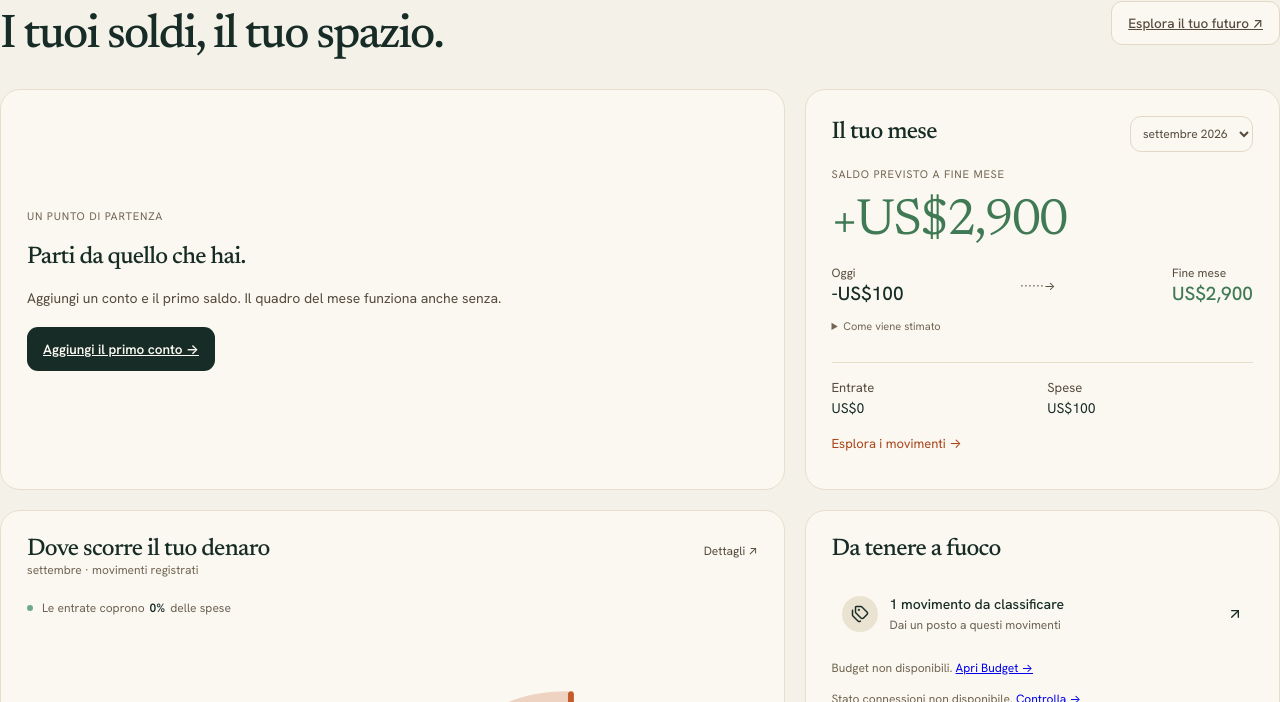
Test: modular home › shows a forecast only for the current month and passes a question to the assistant
Check: the text "Saldo previsto a fine mese" is shown, box [832,167,1005,181]
Select "2026-08" in the dropdown named "Mese" at (1192, 134), box [1130,116,1253,152]
(page scrolled)
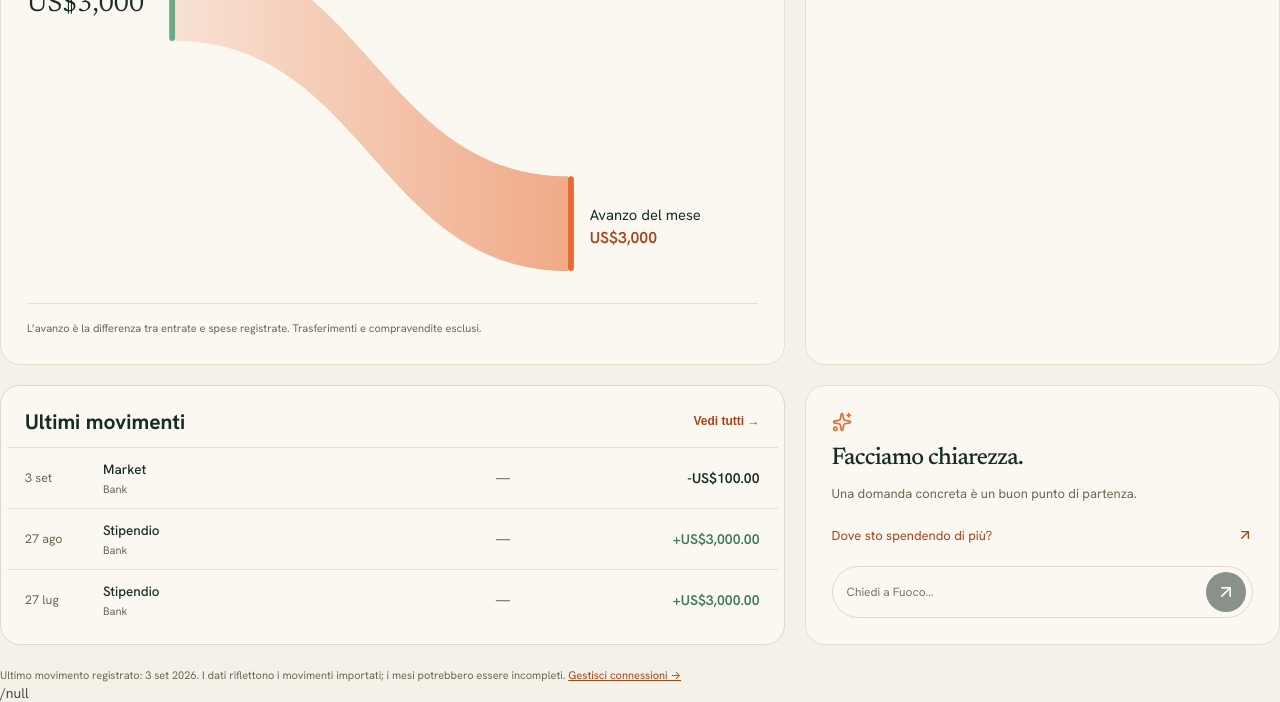
Check: the text "Saldo previsto a fine mese" is gone
Type "Come sono cambiate le spese?" into the field labelled "Chiedi a Fuoco" at (1022, 592), box [846,576,1198,608]
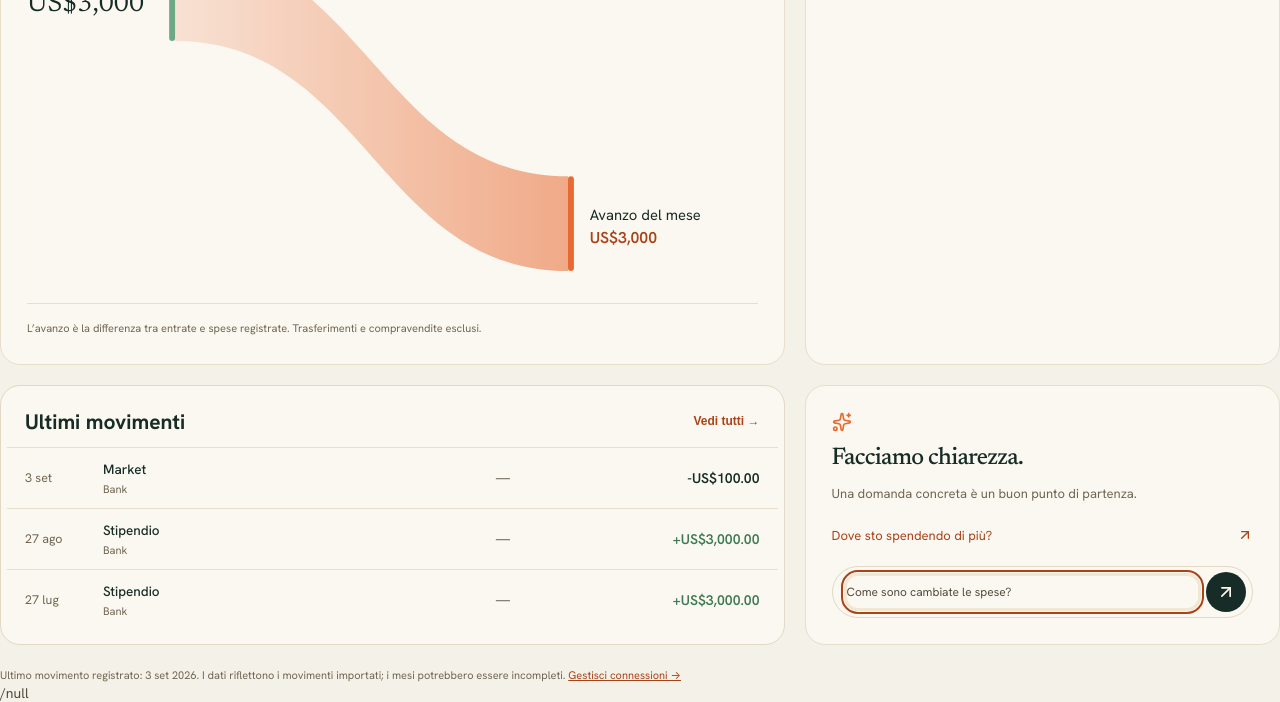
Click the button named "Invia domanda all’assistente" at (1226, 592), box [1206,572,1246,612]
(page scrolled)
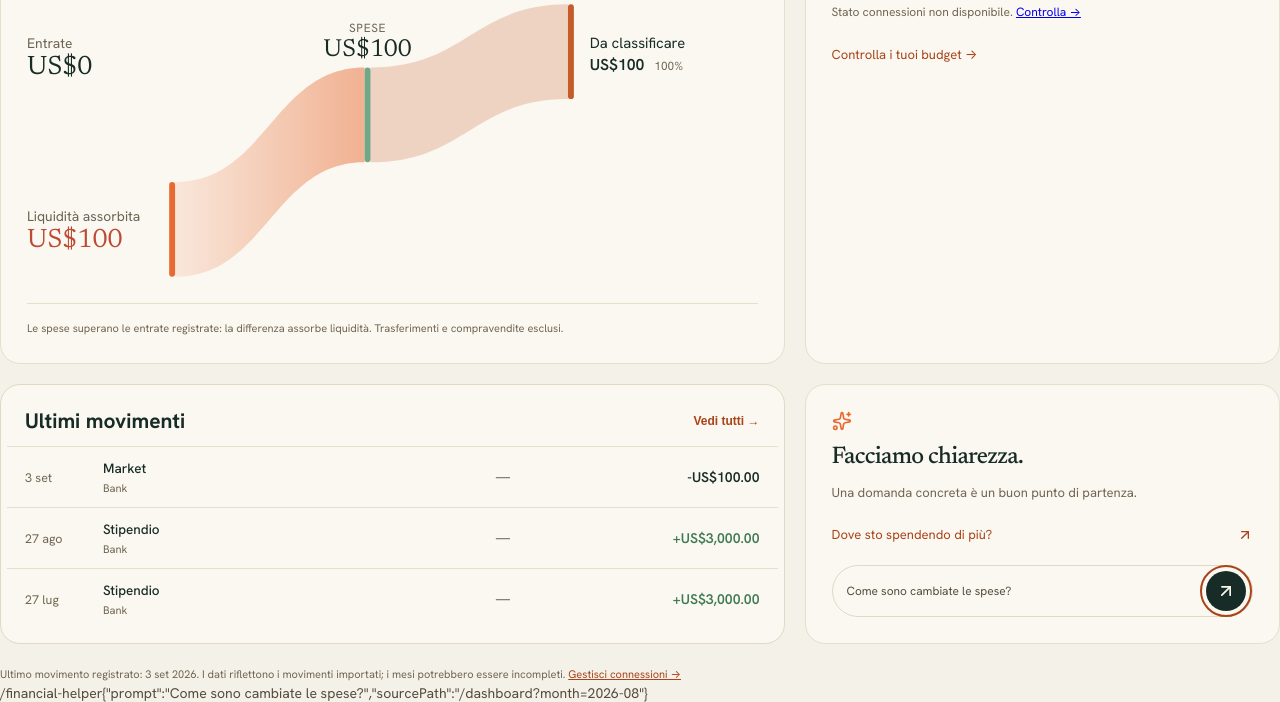
Check: the text with test id "location" shows "/financial-helper{\"prompt\":\"Come sono cambiate le spese?\",\"sourcePath\":\"/dashboard?month=2026-08\"}", box [0,684,647,701]
